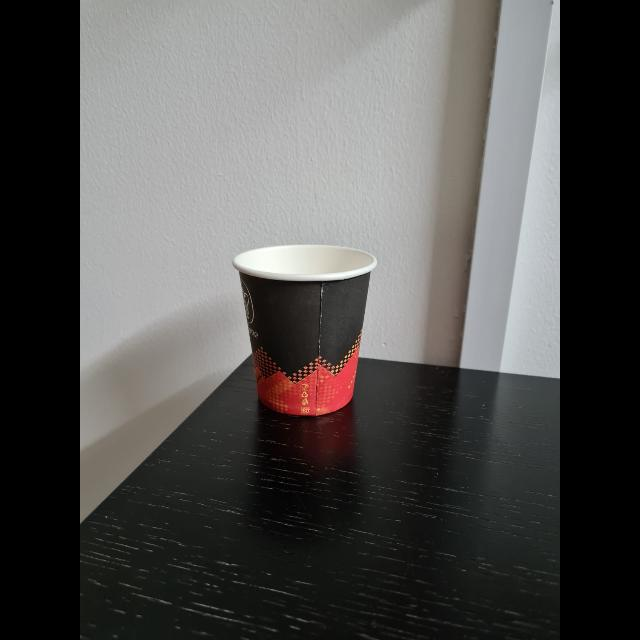trash: (236, 243, 380, 419)
